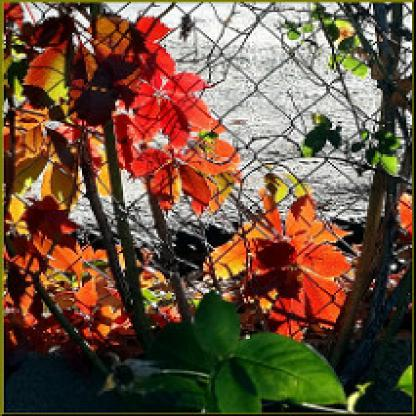SUN FLOWER: (13, 13, 388, 405)
